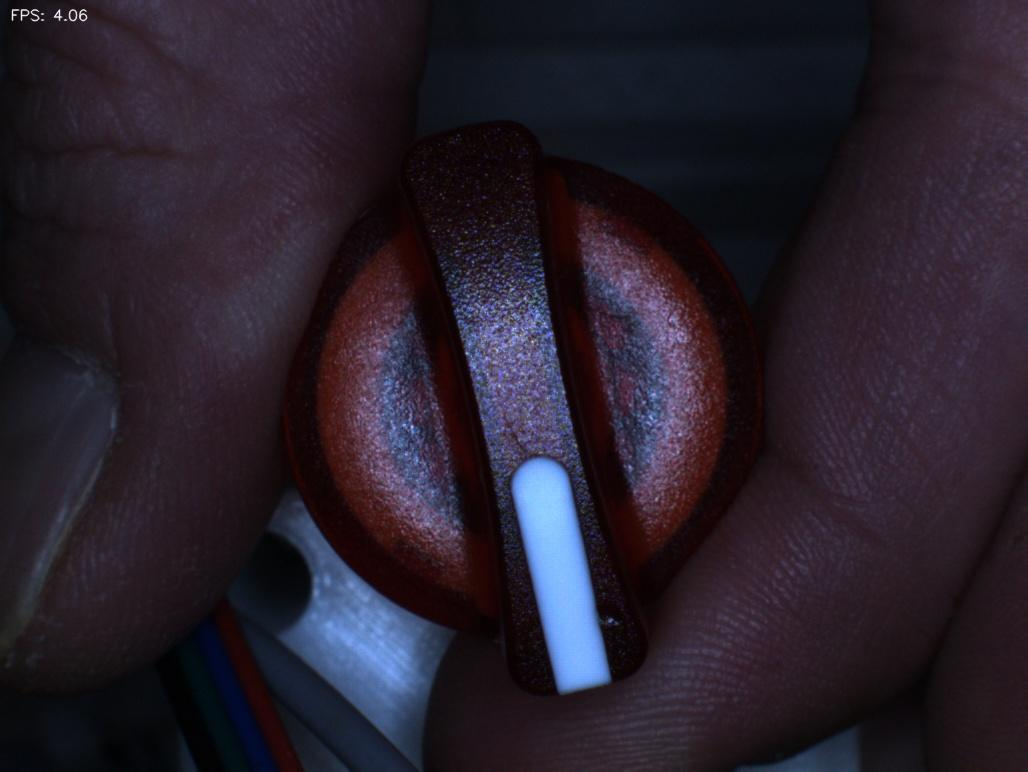Choc: (568, 565, 656, 659)
